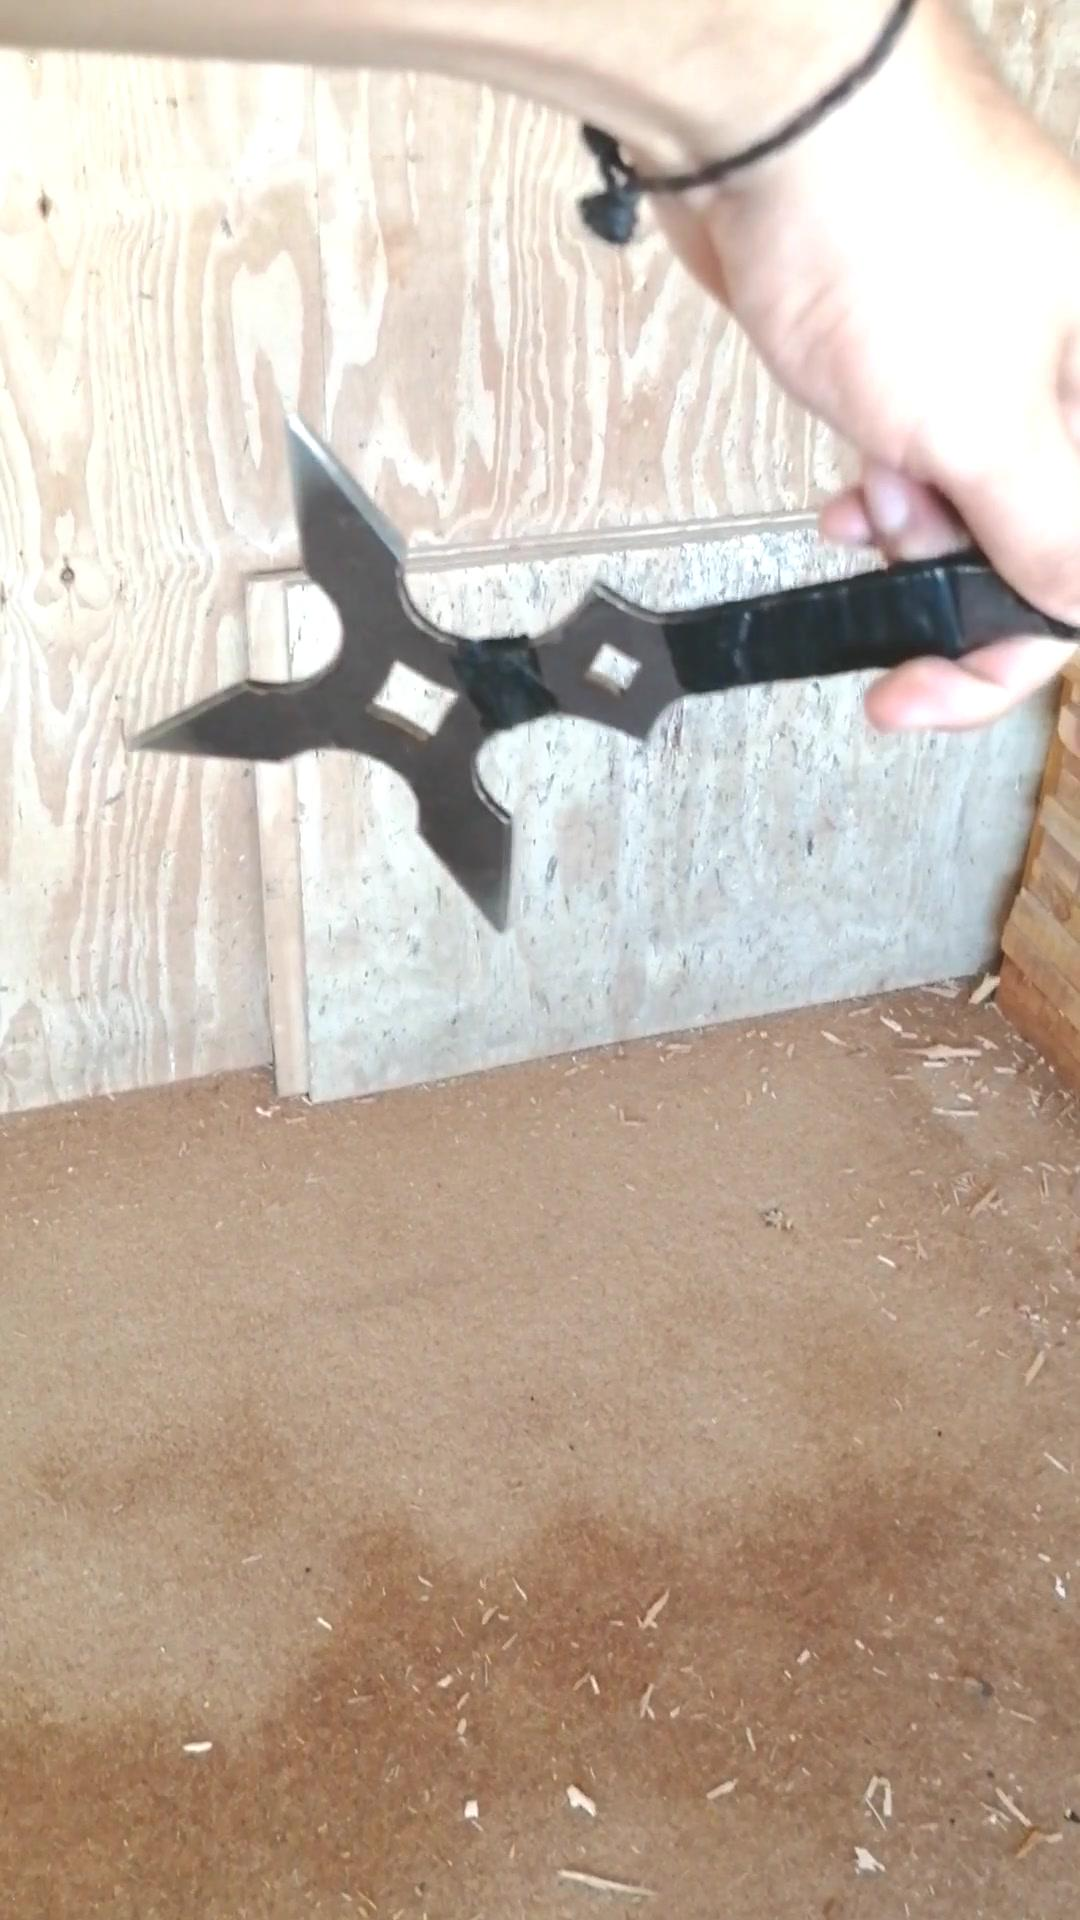Hand Axe: (113, 412, 1071, 930)
